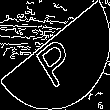P_NW: (29, 23, 81, 87)
